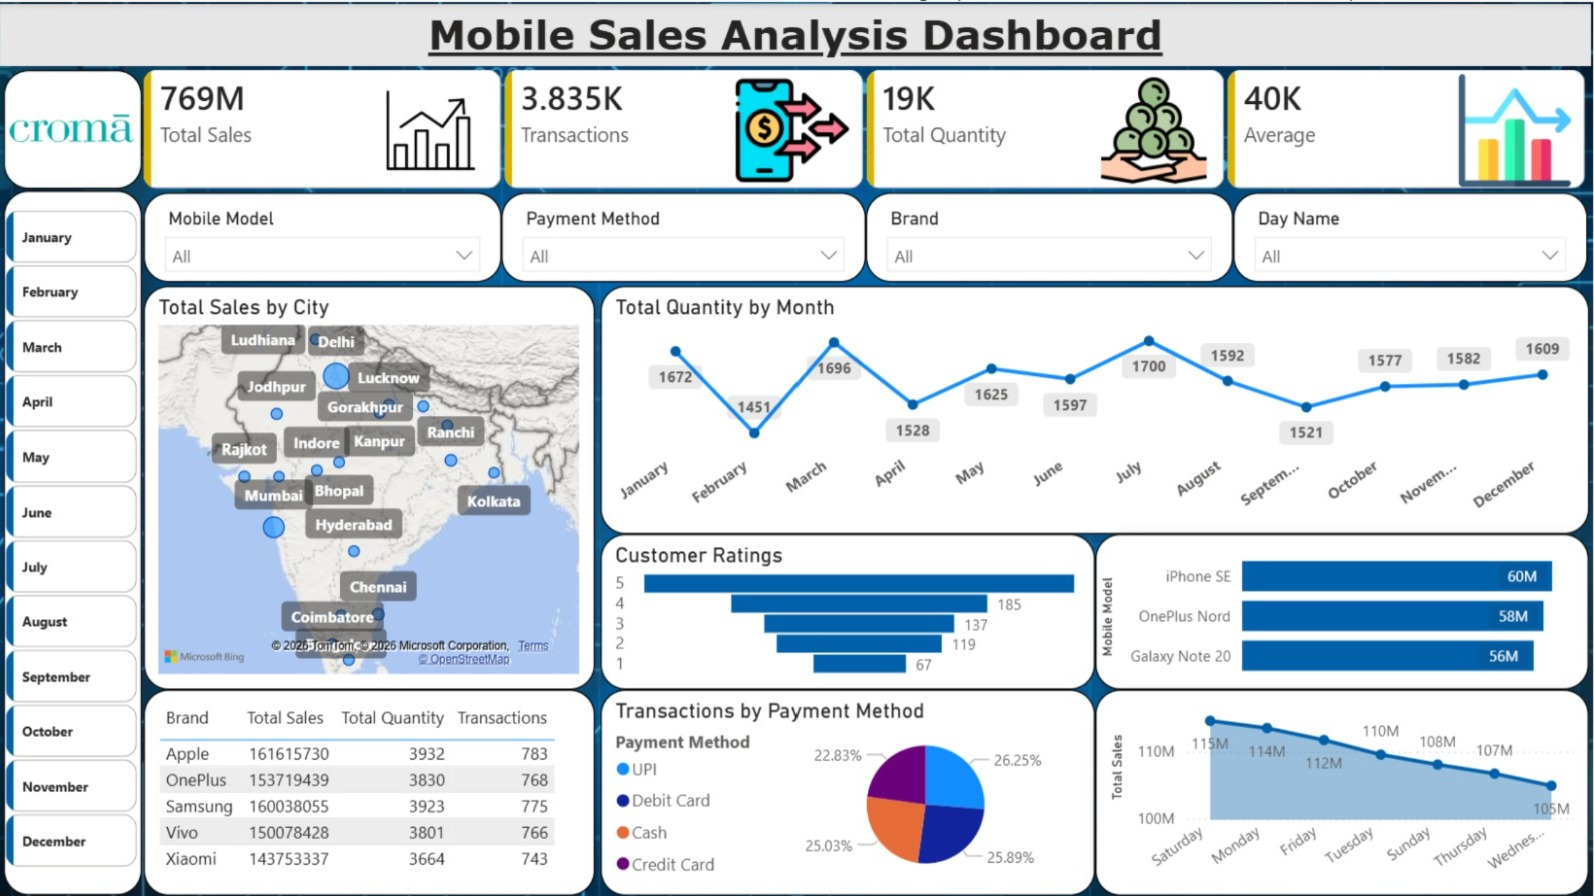

What the dashboard file says about the page in this screenshot:
{"tool":"powerbi","page":{"name":"Croma Mobile Sales Analysis","canvas":[1280,720],"ordinal":0},"visuals":[{"type":"shape","box":[4,54,110.9,95.3],"z":0},{"type":"shape","box":[4.7,152,110.9,565],"z":1000},{"type":"advancedSlicerVisual","fields":{"Values":["Sales_Data1.Date.Variation.Date Hierarchy.Month"]},"box":[1.6,162.4,115.6,542],"z":2000},{"type":"map","fields":{"Category":["Sales_Data1.City"],"Size":["Sales_Data1.Total Sales"]},"box":[117.1,228,362.3,323.3],"z":3000},{"type":"lineChart","fields":{"Y":["Sales_Data.Total Quantity"],"Category":["Sales_Data1.Date.Variation.Date Hierarchy.Month","Sales_Data1.Date.Variation.Date Hierarchy.Day"]},"box":[484.2,228,793.4,198.4],"z":4000},{"type":"cardVisual","fields":{"Data":["Sales_Data1.Total Sales","Sales_Data1.Transactions","Sales_Data1.Total Quantity","Sales_Data1.Average"]},"box":[117.1,54.7,1158.9,95.3],"z":5000},{"type":"clusteredBarChart","fields":{"Category":["Sales_Data.Mobile Model"],"Y":["Sales_Data.Total Sales"]},"box":[880.9,426.4,396.7,124.9],"z":6000},{"type":"pieChart","fields":{"Category":["Sales_Data.Payment Method"],"Y":["Sales_Data.Transactions"]},"box":[484.2,551.3,396.7,165.6],"z":7000},{"type":"funnel","title":"Customer Ratings","fields":{"Category":["Sales_Data.Customer Ratings"],"Y":["CountNonNull(Sales_Data.Customer Ratings)"]},"box":[484.2,426.4,396.7,124.9],"z":8000},{"type":"areaChart","fields":{"Category":["Sales_Data.Day Name"],"Y":["Sales_Data.Total Sales"]},"box":[880.9,551.3,396.7,165.6],"z":9000},{"type":"tableEx","fields":{"Values":["Sales_Data.Brand","Sales_Data.Total Sales","Sales_Data.Total Quantity","Sales_Data.Transactions"]},"box":[117.1,551.3,362.3,165.6],"z":10000},{"type":"slicer","fields":{"Values":["Sales_Data.Mobile Model"]},"box":[117.1,153.1,287.4,71.8],"z":11000},{"type":"slicer","fields":{"Values":["Sales_Data.Payment Method"]},"box":[404.5,153.1,292.1,71.8],"z":12000},{"type":"textbox","box":[1.6,2,1277.6,50],"z":13000},{"type":"slicer","fields":{"Values":["Sales_Data.Day Name"]},"box":[991.8,153.1,284.3,71.8],"z":14000},{"type":"slicer","fields":{"Values":["Sales_Data.Brand"]},"box":[696.6,153.1,295.2,71.8],"z":15000},{"type":"image","box":[9.4,62.5,100,78.1],"z":16000}]}

Visuals, with their boxes in screenshot pixels (x1, y1, x2, y2), scaled from the page's 1280x720 canvas onto the 1594x896 screenshot:
shape: (left=5, top=67, right=143, bottom=186)
shape: (left=6, top=189, right=144, bottom=892)
advancedSlicerVisual - Sales_Data1.Date.Variation.Date Hierarchy.Month: (left=2, top=202, right=146, bottom=877)
map - Sales_Data1.City x Sales_Data1.Total Sales: (left=146, top=284, right=597, bottom=686)
lineChart - Sales_Data.Total Quantity x Sales_Data1.Date.Variation.Date Hierarchy.Month: (left=603, top=284, right=1591, bottom=531)
cardVisual - Sales_Data1.Total Sales x Sales_Data1.Transactions: (left=146, top=68, right=1589, bottom=187)
clusteredBarChart - Sales_Data.Mobile Model x Sales_Data.Total Sales: (left=1097, top=531, right=1591, bottom=686)
pieChart - Sales_Data.Payment Method x Sales_Data.Transactions: (left=603, top=686, right=1097, bottom=892)
"Customer Ratings" funnel: (left=603, top=531, right=1097, bottom=686)
areaChart - Sales_Data.Day Name x Sales_Data.Total Sales: (left=1097, top=686, right=1591, bottom=892)
tableEx - Sales_Data.Brand x Sales_Data.Total Sales: (left=146, top=686, right=597, bottom=892)
slicer - Sales_Data.Mobile Model: (left=146, top=191, right=504, bottom=280)
slicer - Sales_Data.Payment Method: (left=504, top=191, right=867, bottom=280)
textbox: (left=2, top=2, right=1593, bottom=65)
slicer - Sales_Data.Day Name: (left=1235, top=191, right=1589, bottom=280)
slicer - Sales_Data.Brand: (left=867, top=191, right=1235, bottom=280)
image: (left=12, top=78, right=136, bottom=175)
